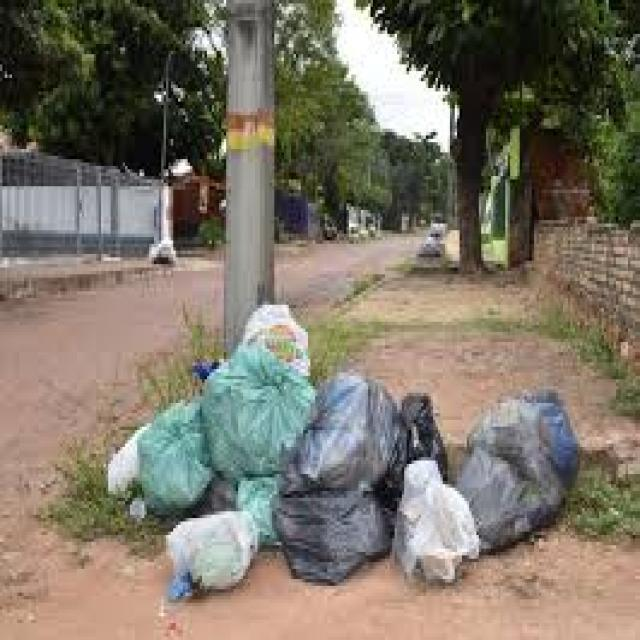garbage: (113, 302, 579, 614)
